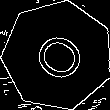O_SE: (23, 23, 91, 88)
